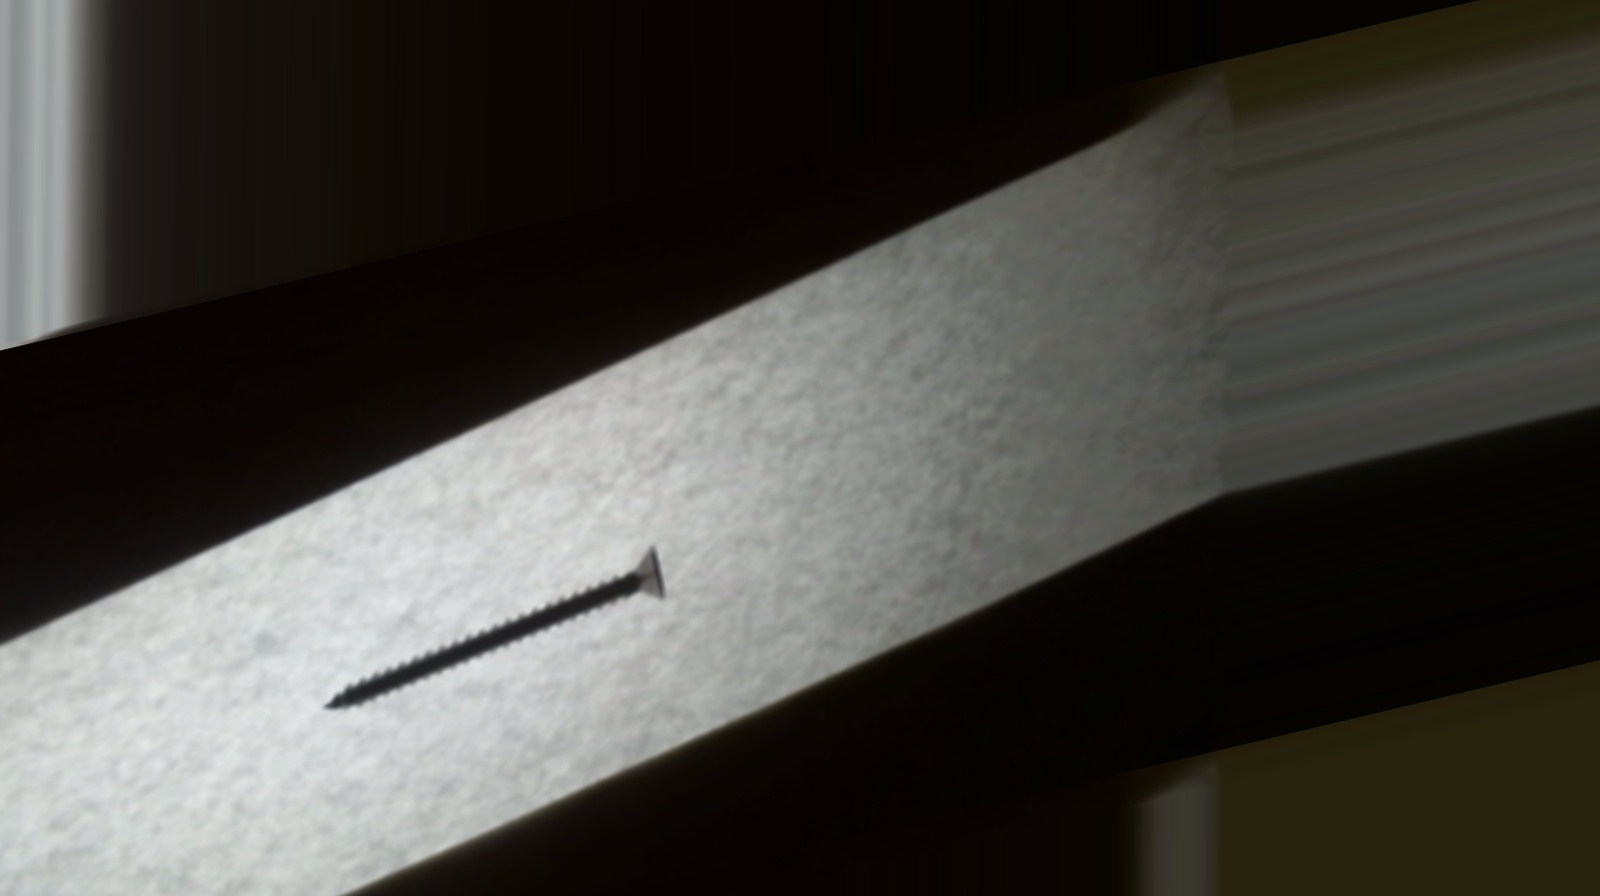S002: (318, 538, 673, 721)
